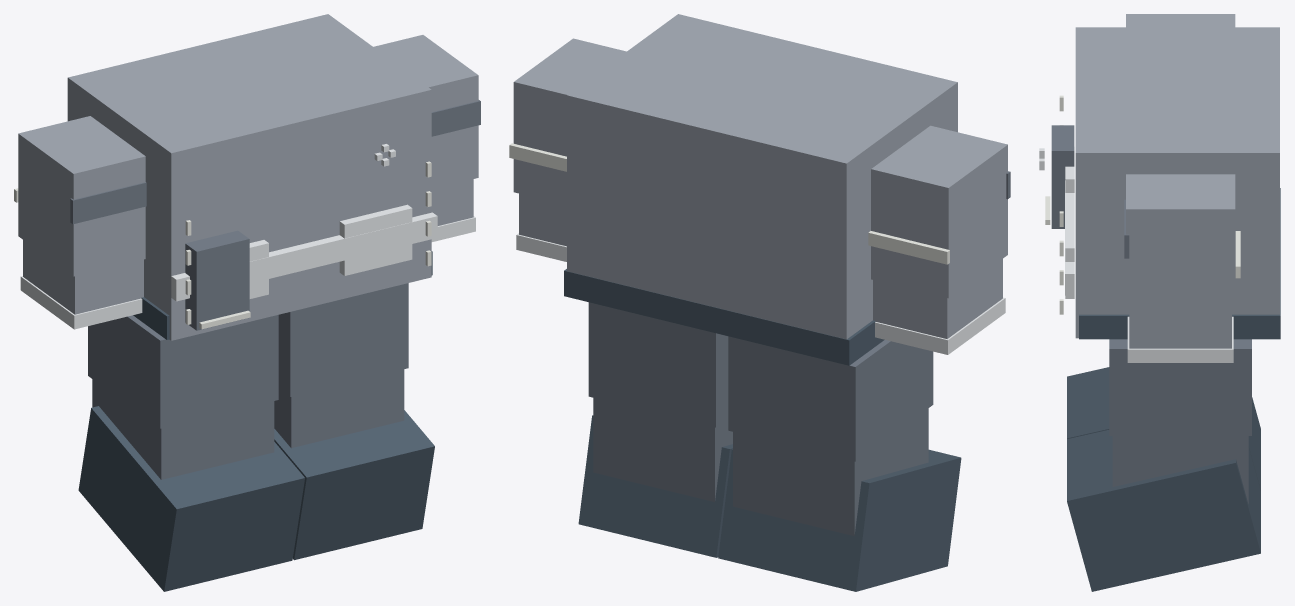
Rendered from workwear-slate.glb.
The picture shows the model from 3 angles, left to right: view 1: azimuth 30°, elevation 25°; view 2: azimuth 150°, elevation 25°; view 3: azimuth 270°, elevation 25°; orthographic projection. The views are drawn at different scales.
Parts seen in each view (by area): view 1: jacket, shoe-Right, trouser-Right, upper-sleeve-Right, shoe-Left, trouser-Left, lower-trouser-Right, lower-trouser-Left, upper-sleeve-Left, tool-pocket, reflective-band, lower-sleeve-Right (+8 smaller); view 2: jacket, trouser-Right, shoe-Right, upper-sleeve-Right, trouser-Left, lower-trouser-Right, lower-trouser-Left, shoe-Left, upper-sleeve-Left, utility-belt, lower-sleeve-Right, cuff-Right (+4 smaller); view 3: jacket, shoe-Left, upper-sleeve-Left, trouser-Left, lower-trouser-Left, lower-sleeve-Left, shoe-Right, utility-belt, tool-pocket, cuff-Left, upper-sleeve-Right, reflective-band (+1 smaller).
Part boxes in pixels (x1=…): jacket: x1=67, y1=14, x2=431, y2=340; shoe-Right: x1=78, y1=406, x2=304, y2=591; trouser-Right: x1=88, y1=315, x2=278, y2=428; upper-sleeve-Right: x1=18, y1=116, x2=145, y2=276; shoe-Left: x1=274, y1=410, x2=434, y2=560; trouser-Left: x1=278, y1=283, x2=408, y2=396; lower-trouser-Right: x1=92, y1=379, x2=274, y2=479; lower-trouser-Left: x1=274, y1=369, x2=404, y2=448; upper-sleeve-Left: x1=373, y1=35, x2=478, y2=188; tool-pocket: x1=185, y1=230, x2=249, y2=330; reflective-band: x1=171, y1=212, x2=437, y2=301; lower-sleeve-Right: x1=23, y1=240, x2=143, y2=314; jacket: x1=567, y1=14, x2=957, y2=339; trouser-Right: x1=728, y1=336, x2=933, y2=461; shoe-Right: x1=718, y1=449, x2=961, y2=591; upper-sleeve-Right: x1=871, y1=125, x2=1007, y2=298; trouser-Left: x1=588, y1=302, x2=728, y2=427; lower-trouser-Right: x1=733, y1=408, x2=928, y2=536; lower-trouser-Left: x1=593, y1=398, x2=732, y2=501; shoe-Left: x1=578, y1=415, x2=732, y2=557; upper-sleeve-Left: x1=513, y1=38, x2=626, y2=204; utility-belt: x1=564, y1=269, x2=884, y2=365; lower-sleeve-Right: x1=873, y1=259, x2=1002, y2=338; cuff-Right: x1=875, y1=297, x2=1005, y2=354; jacket: x1=1075, y1=27, x2=1279, y2=338; shoe-Left: x1=1067, y1=430, x2=1260, y2=591; upper-sleeve-Left: x1=1126, y1=174, x2=1235, y2=310; trouser-Left: x1=1109, y1=339, x2=1251, y2=435; lower-trouser-Left: x1=1112, y1=436, x2=1248, y2=503; lower-sleeve-Left: x1=1129, y1=310, x2=1231, y2=348; shoe-Right: x1=1067, y1=367, x2=1260, y2=490; utility-belt: x1=1079, y1=188, x2=1280, y2=339; tool-pocket: x1=1051, y1=125, x2=1074, y2=228; cuff-Left: x1=1127, y1=316, x2=1233, y2=362; upper-sleeve-Right: x1=1126, y1=14, x2=1235, y2=27; reflective-band: x1=1065, y1=180, x2=1074, y2=295.
Bounding box in the file's own units: 1.08 × 1.13 × 0.56.
